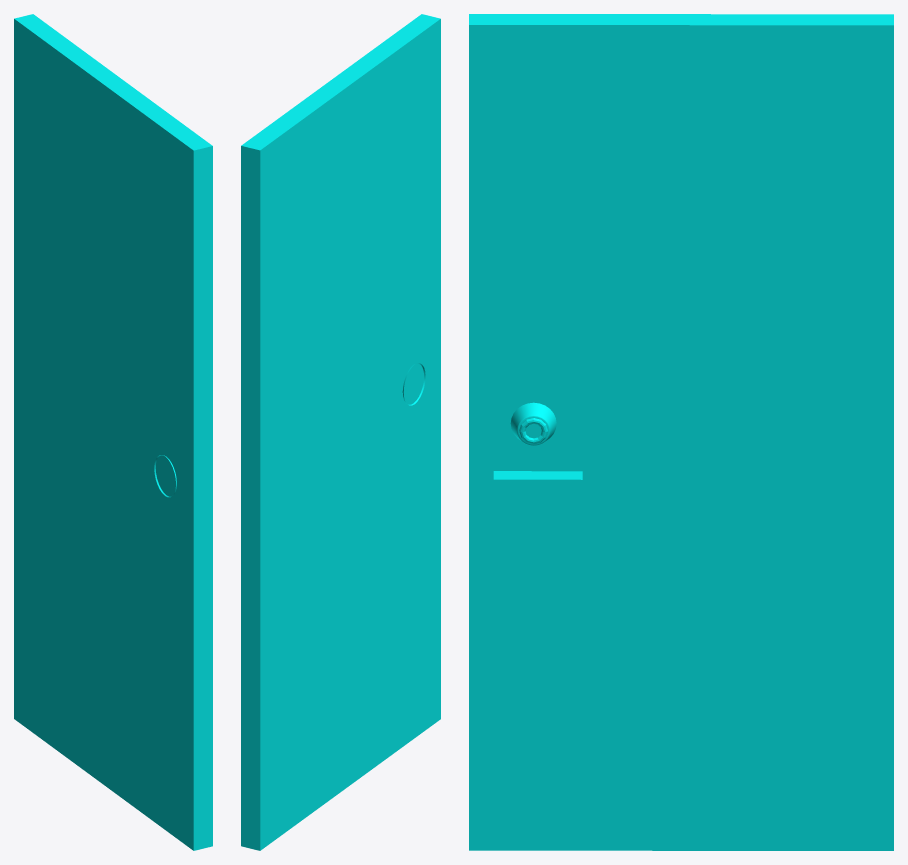
3 views of the same model, side by side, from view 1: azimuth 30°, elevation 25°; view 2: azimuth 150°, elevation 25°; view 3: azimuth 270°, elevation 25° (orthographic). The views are drawn at different scales.
Parts seen in each view (by area): view 1: Uv_005; view 2: Uv_005; view 3: Uv_005.
Boxes of the visible parts, x1=… form: Uv_005: x1=14, y1=14, x2=212, y2=850; Uv_005: x1=241, y1=14, x2=440, y2=850; Uv_005: x1=469, y1=14, x2=893, y2=850.
Bounding box in the file's own units: 2.78 × 89.2 × 41.6.
